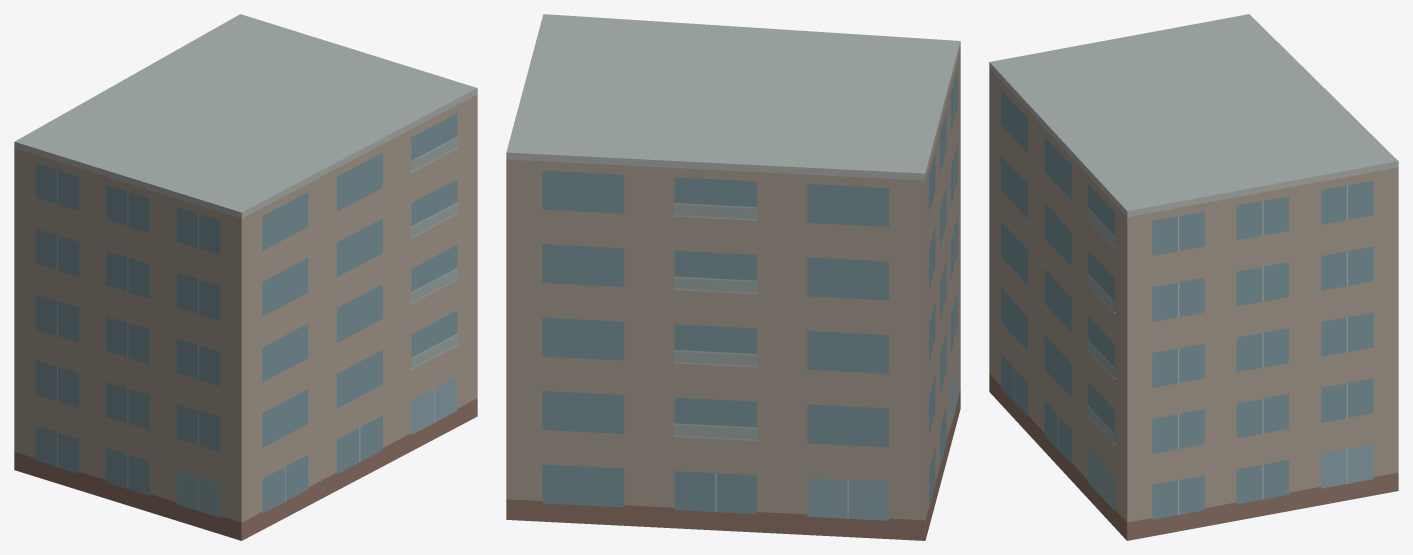
Rendered from survey-upis-32595435.glb.
3 views of the same model, side by side, from view 1: azimuth 30°, elevation 25°; view 2: azimuth 150°, elevation 25°; view 3: azimuth 270°, elevation 25° (orthographic). The views are drawn at different scales.
Visible parts, largest first — view 1: survey-upis-32595435.tmp; view 2: survey-upis-32595435.tmp; view 3: survey-upis-32595435.tmp.
Part boxes in pixels (x1=…): survey-upis-32595435.tmp: x1=14, y1=14, x2=477, y2=540; survey-upis-32595435.tmp: x1=506, y1=14, x2=960, y2=540; survey-upis-32595435.tmp: x1=989, y1=14, x2=1398, y2=540.
Size of the model in its own units: 16.55 by 12.9 by 14.52.
